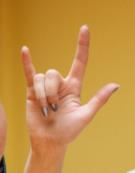back: (16, 24, 123, 150)
